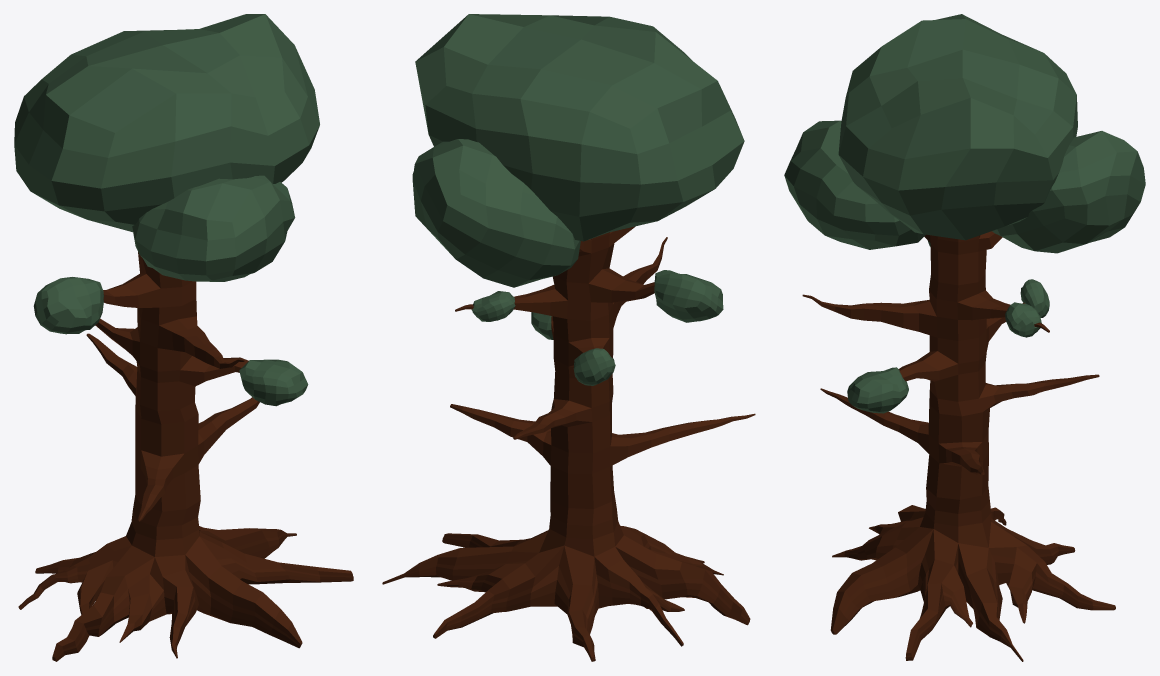
The model's file is BigTree1FIXED.glb.
The picture shows the model from 3 angles, left to right: view 1: azimuth 30°, elevation 25°; view 2: azimuth 150°, elevation 25°; view 3: azimuth 270°, elevation 25°; orthographic projection. The views are drawn at different scales.
Parts seen in each view (by area): view 1: Baum, Stamme-col; view 2: Baum, Stamme-col; view 3: Baum, Stamme-col.
Part boxes in pixels (x1,y1,x2,y2): Baum: [14, 14, 319, 406]; Stamme-col: [18, 252, 353, 661]; Baum: [412, 14, 744, 385]; Stamme-col: [382, 226, 755, 661]; Baum: [784, 14, 1145, 413]; Stamme-col: [802, 231, 1115, 661].
Size of the model in its own units: 87.02 by 158 by 93.02.
Materials: 1 (1 with a texture image).
